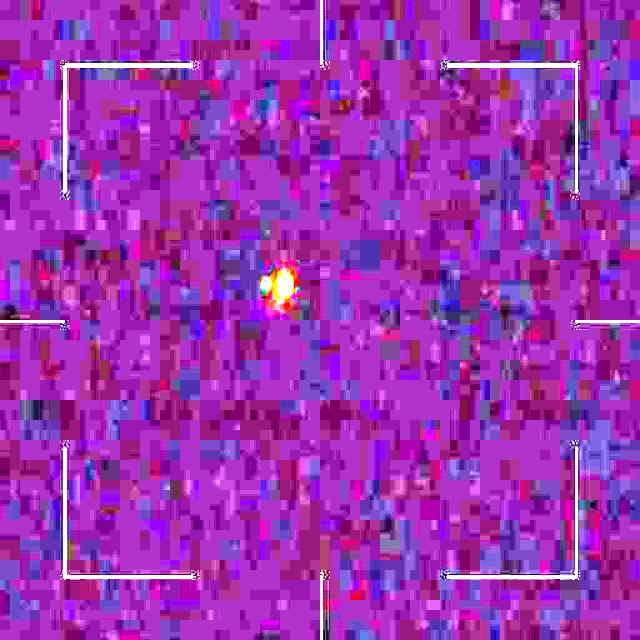bird: (260, 262, 294, 316)
